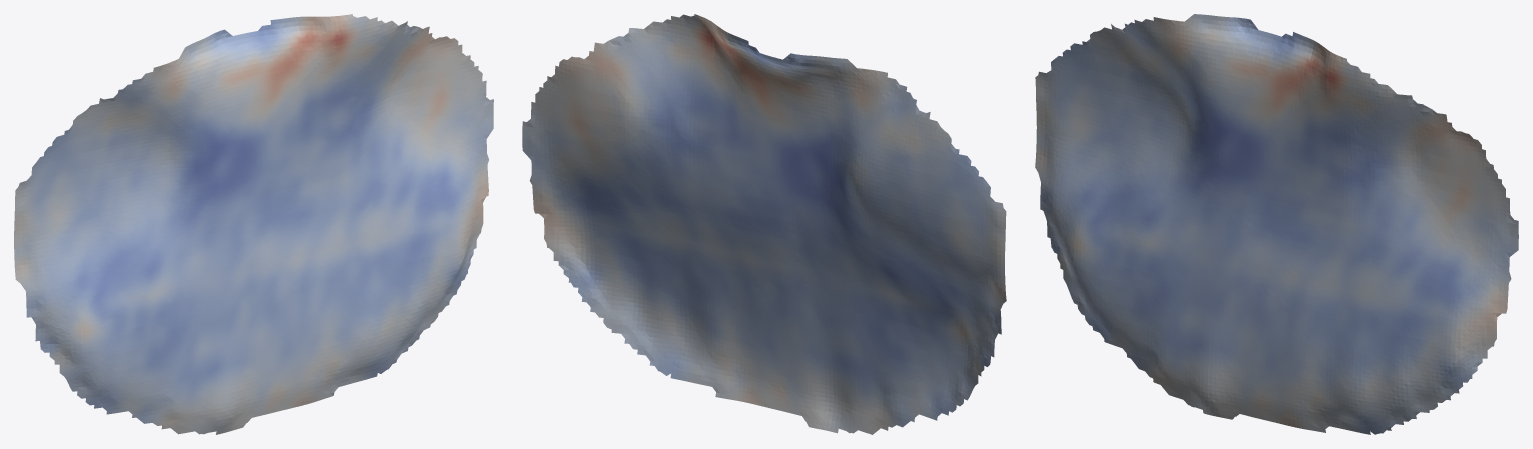
3 views of the same model, side by side, from view 1: azimuth 30°, elevation 25°; view 2: azimuth 150°, elevation 25°; view 3: azimuth 330°, elevation 25° (orthographic).
Parts seen in each view (by area): view 1: world; view 2: world; view 3: world.
Part boxes in pixels (x1,y1,x2,y2): world: (14,14,493,434); world: (522,14,1006,434); world: (1035,14,1518,434).
Bounding box in the file's own units: 47.24 × 36.22 × 3.95.
